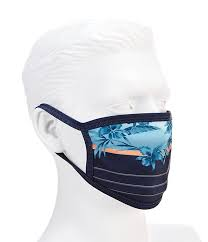cloth_mask: (32, 103, 175, 212)
